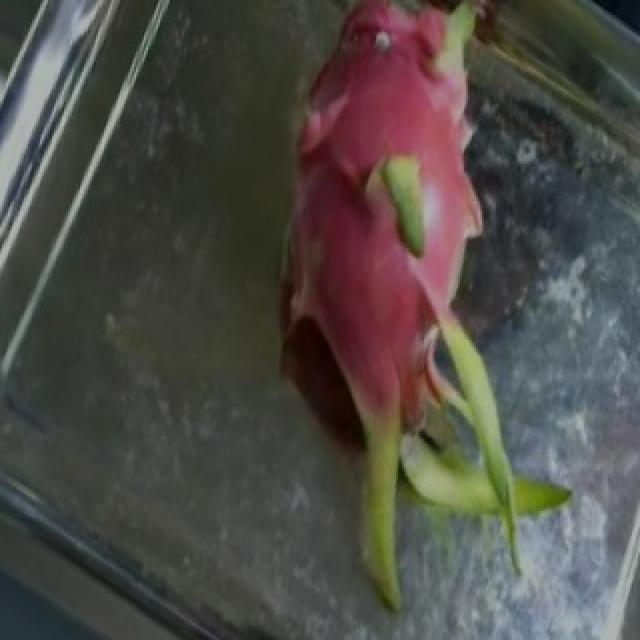fruit: (182, 0, 626, 429), (204, 218, 630, 638)
